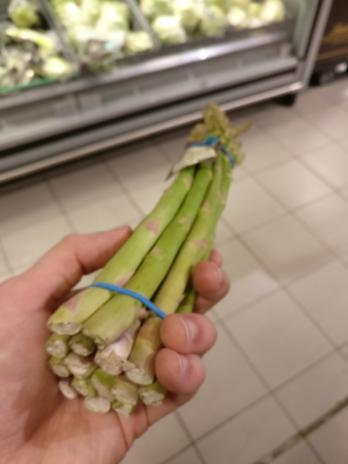Asparagus: (39, 102, 251, 412)
